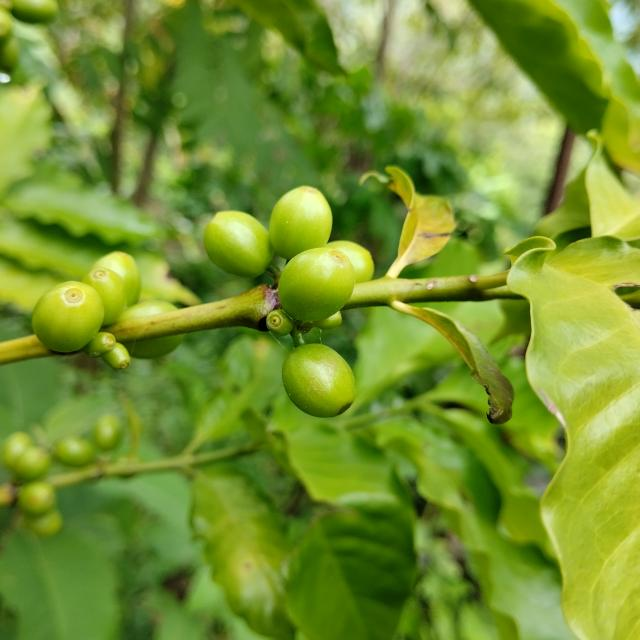green: (278, 247, 356, 321), (282, 344, 355, 418), (31, 281, 104, 353), (269, 185, 332, 260), (204, 211, 274, 278), (90, 251, 141, 307), (82, 268, 127, 326), (325, 240, 375, 283), (124, 334, 185, 359), (118, 300, 177, 321), (81, 332, 115, 357), (101, 342, 130, 370), (266, 309, 292, 336), (314, 311, 342, 330)
